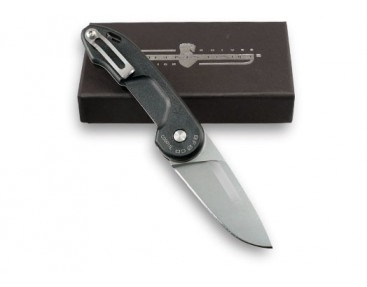knife: (150, 125, 275, 253)
